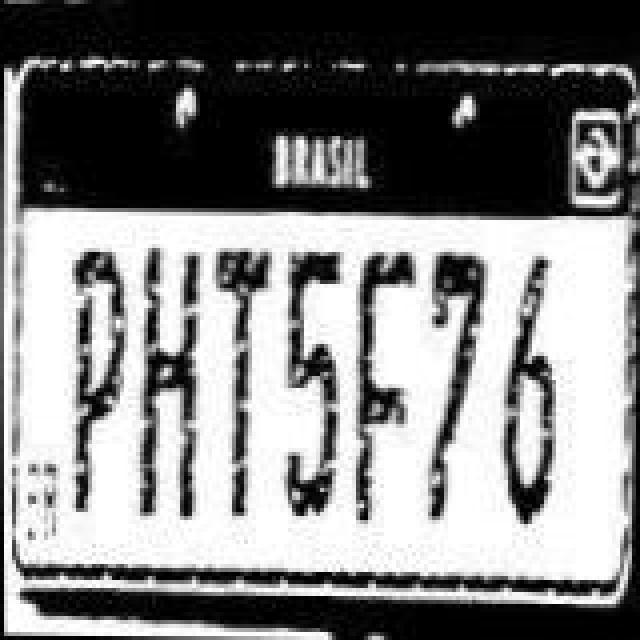5: (280, 226, 348, 526)
6: (496, 232, 568, 528)
7: (418, 244, 494, 536)
F: (350, 230, 418, 542)
H: (138, 228, 214, 544)
P: (66, 240, 134, 552)
T: (206, 238, 282, 534)
